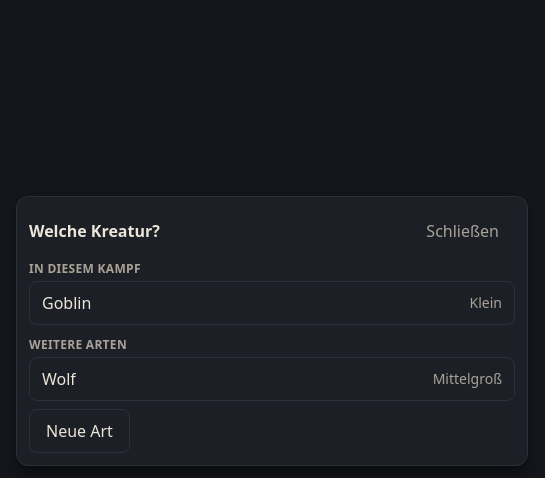
it: SpawnPanel picker › says when the name is taken
This screenshot has width=545, height=478.
Click the button "Neue Art" at x=79, y=431, box x1=29 y1=409 x2=130 y2=453
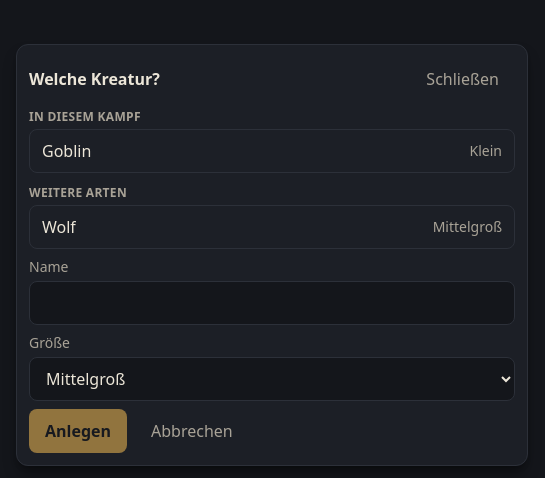
Type "Goblin" into the field labelled "Name" at x=272, y=303, box x1=29 y1=281 x2=515 y2=325
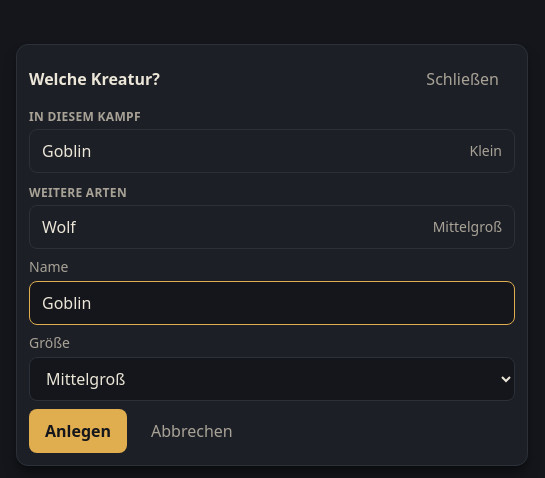
Click the button "Anlegen" at x=78, y=431, box x1=29 y1=409 x2=127 y2=453
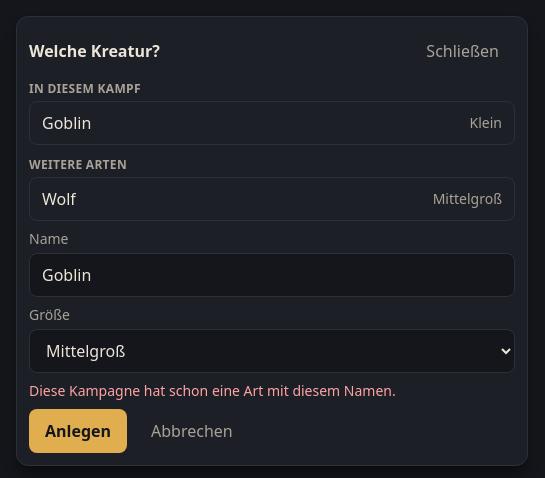
Now the text "Diese Kampagne hat schon eine Art mit diesem Namen." is shown, box x1=29 y1=381 x2=396 y2=400
